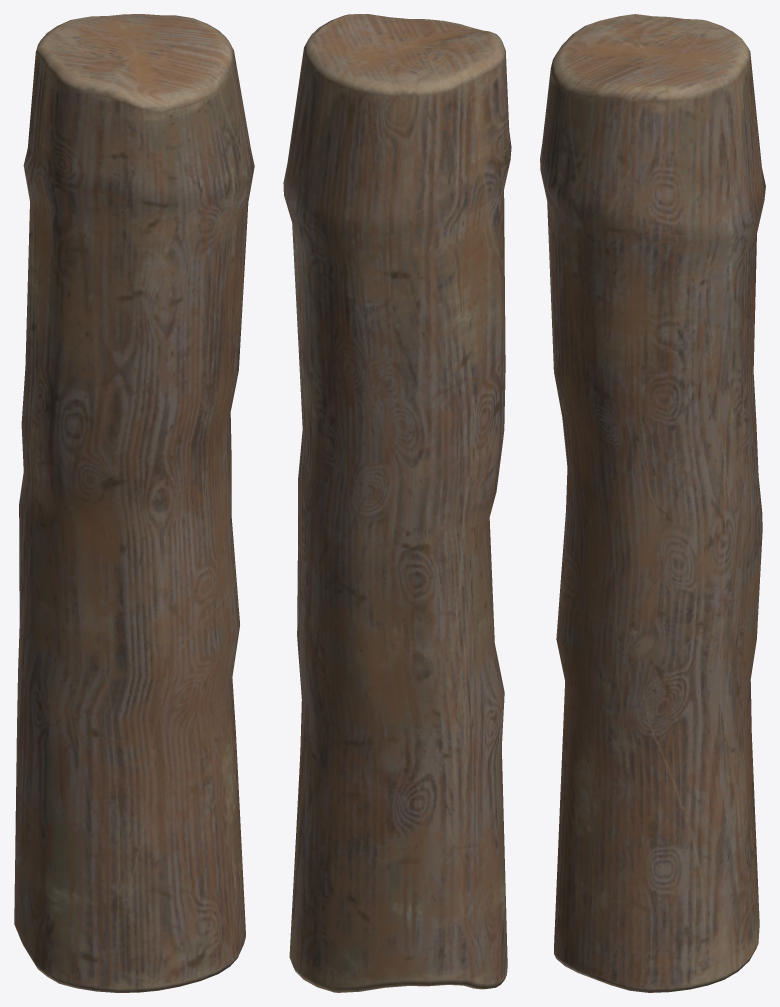
Rendered from SM_post_01.gltf.
3 views of the same model, side by side, from view 1: azimuth 30°, elevation 25°; view 2: azimuth 150°, elevation 25°; view 3: azimuth 270°, elevation 25° (orthographic). The views are drawn at different scales.
Parts seen in each view (by area): view 1: SM_post_01; view 2: SM_post_01; view 3: SM_post_01.
Part boxes in pixels (x1,y1,x2,y2): SM_post_01: (14, 14, 254, 992); SM_post_01: (283, 14, 511, 992); SM_post_01: (540, 14, 765, 992).
Size of the model in its own units: 0.3522 by 1.52 by 0.3454.
1 material, 1 textured.
